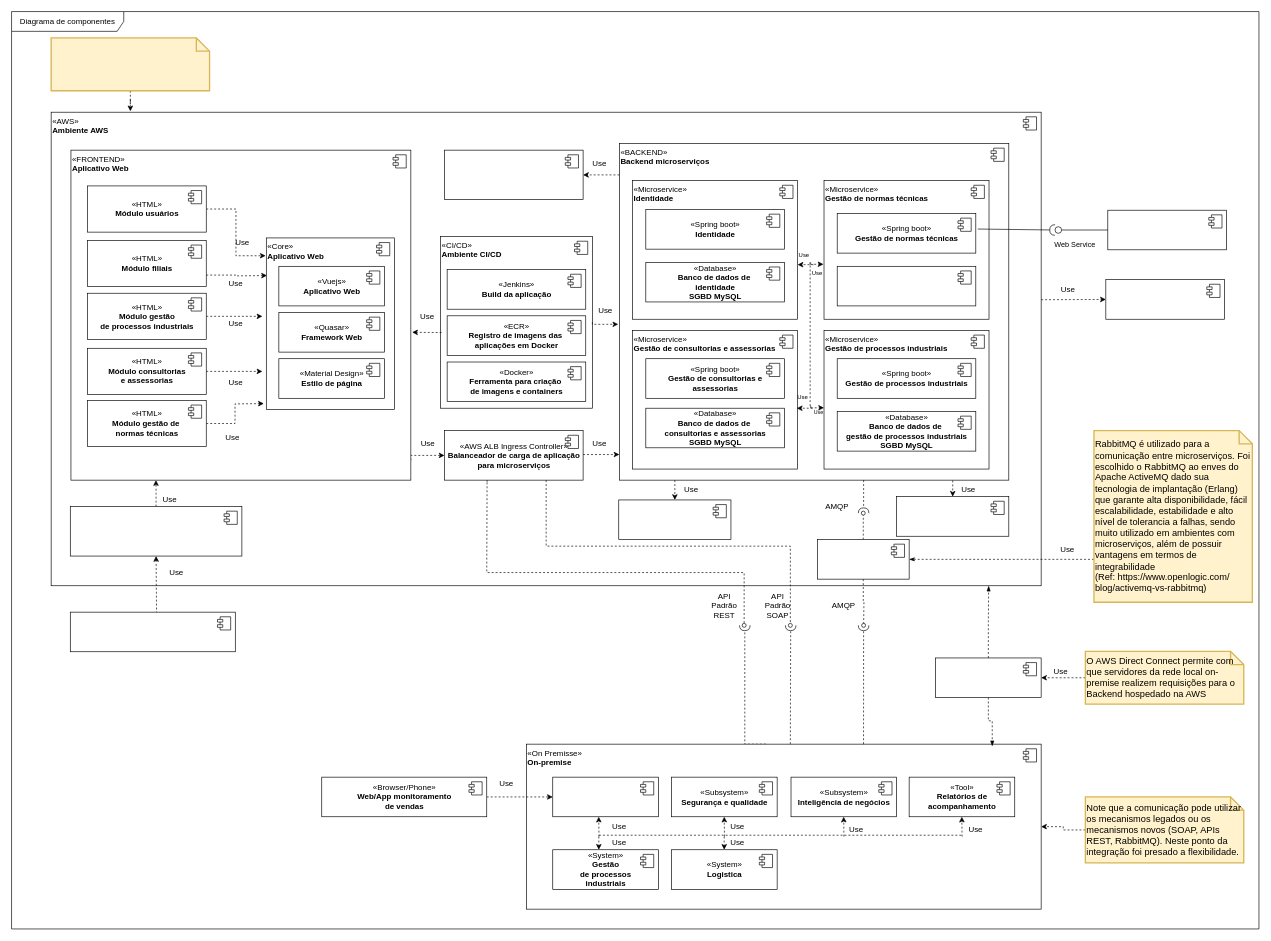
Image size: 1271x941. Some labels were removed from this diagram. The centre of each missing label's shape, as x and y in pixels:
Note que tanto o FRONTEND quanto o BACKEND estão hospedados no mesmo cluster EKS: (130,64)
«AWS ALB Ingress Controller» Balanceador de carga de aplicação para o frontend: (156,531)
«AWS Direct Connect» Comunicação ente AWS e servidores on-premisse: (988,677)
«Browser» Navegador: (152,631)
«Database» Banco de dados de normas técnicas SGBD MySQL: (906,286)
«ElasticSearch» Logs: (674,519)
«Message broker» RabbitMQ: (863,559)
«Realtime» Pusher: (1165,299)
«Redis» Cache: (952,516)
«S3» Arquivos e/ou documento de normas: (513,174)
«System» Monitoramento de vendas: (605,796)
«Web Service» Consulta de mudanças de normas técnicas: (1167,230)
